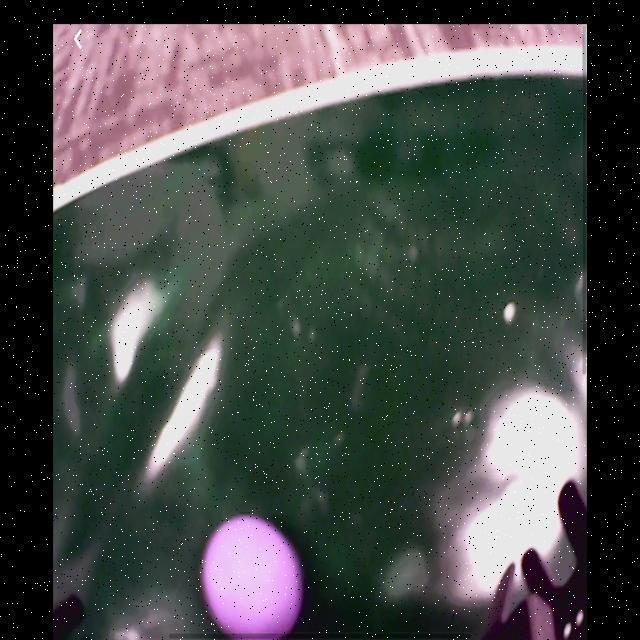ball: (201, 515, 305, 640)
